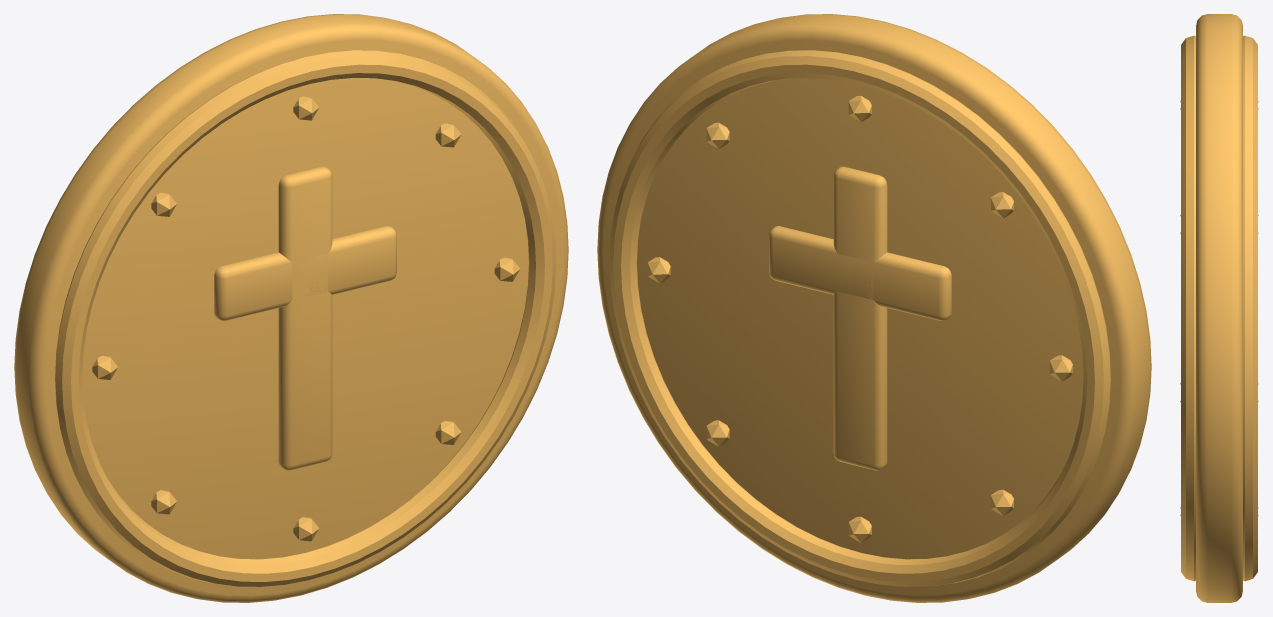
File: coin.glb
3 renders of one model, left to right at view 1: azimuth 30°, elevation 25°; view 2: azimuth 150°, elevation 25°; view 3: azimuth 270°, elevation 25°, orthographic. The views are drawn at different scales.
Parts seen in each view (by area): view 1: Coin; view 2: Coin; view 3: Coin.
Part boxes in pixels (x1,y1,x2,y2): Coin: [14, 14, 568, 602]; Coin: [597, 14, 1151, 602]; Coin: [1180, 14, 1258, 602].
Bounding box in the file's own units: 1.5 × 1.5 × 0.2.
